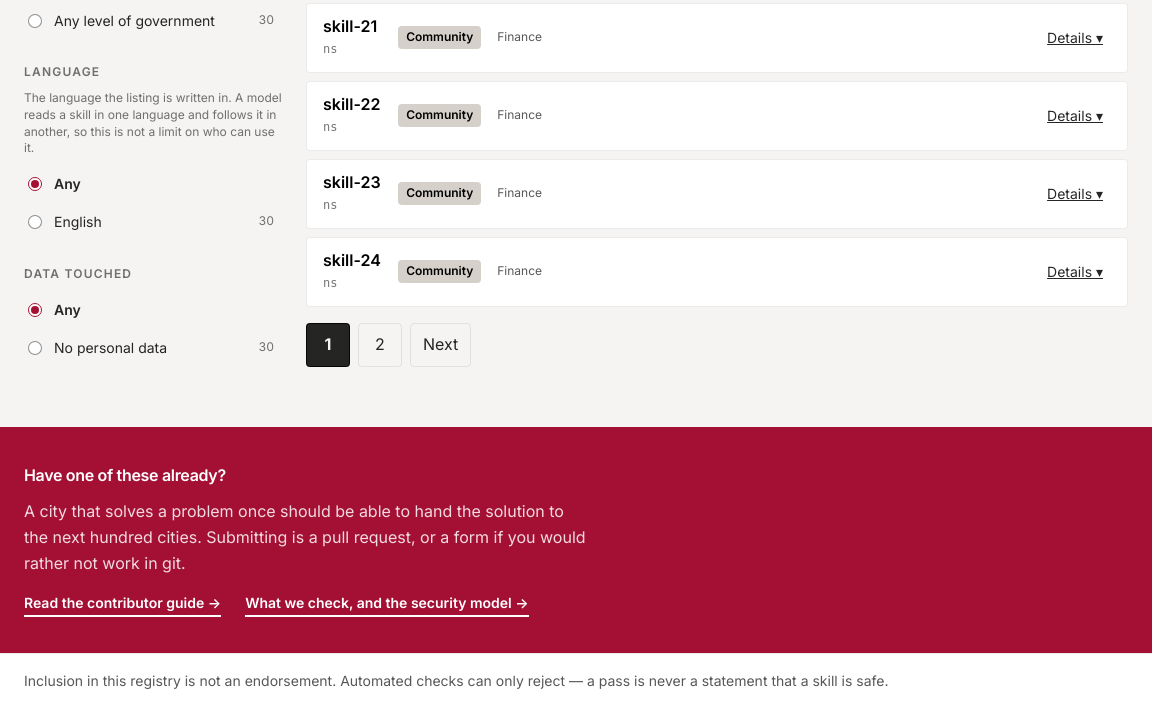
Scenario: numbered pages › pushes a history entry, changes the rows in place and moves focus to the count
(page scrolled)
Click the link "Next". click: coordinates (441, 344)
box: [410,322,471,366]
(page scrolled)
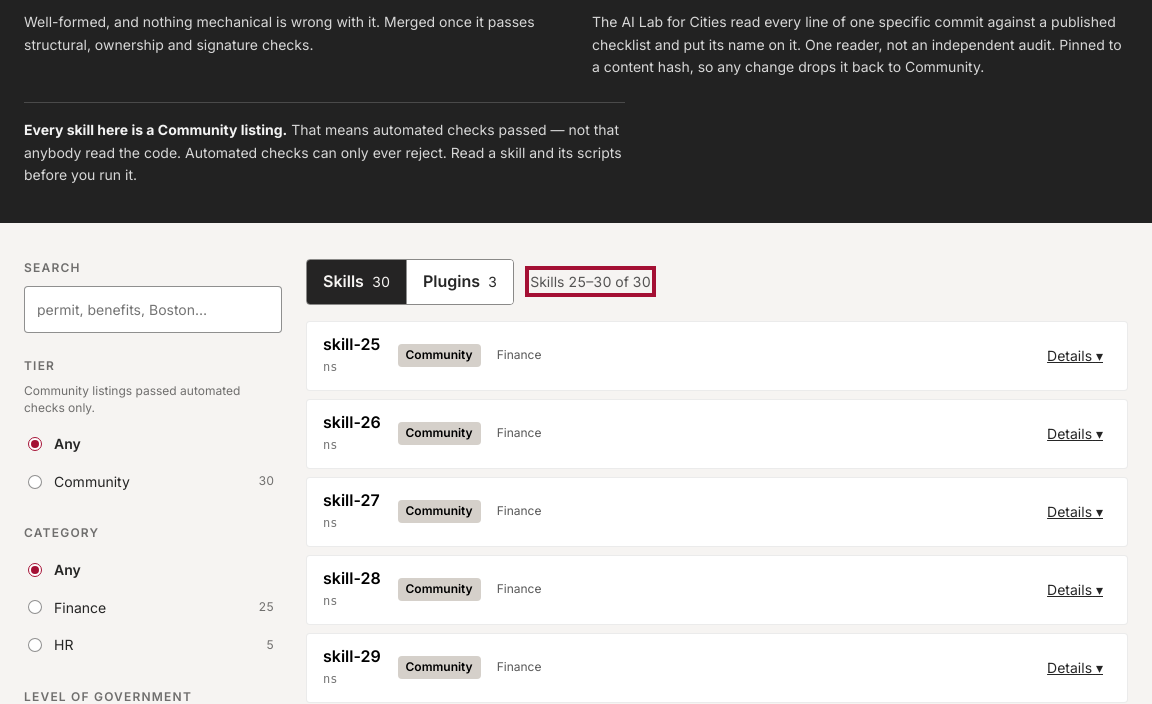
Check: the link "skill-25" is shown, box [323,334,380,354]
